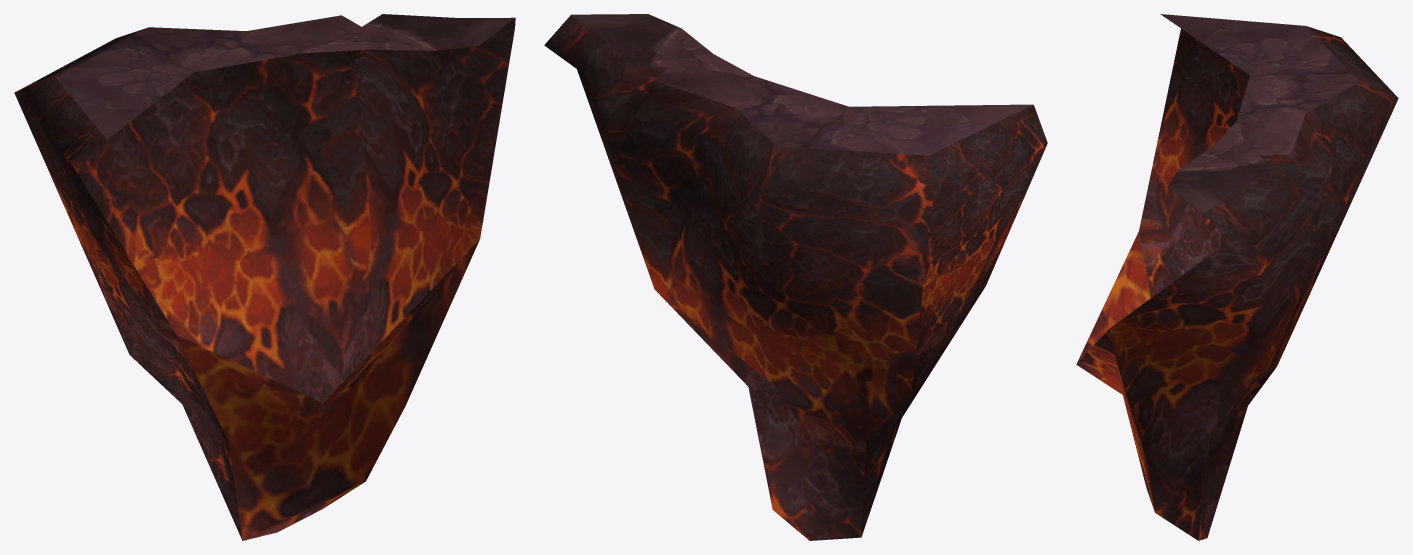
The model's file is hs_shan_30.FBX.
The picture shows the model from 3 angles, left to right: view 1: azimuth 30°, elevation 25°; view 2: azimuth 150°, elevation 25°; view 3: azimuth 270°, elevation 25°; orthographic projection. The views are drawn at different scales.
Parts seen in each view (by area): view 1: hs_shan_30; view 2: hs_shan_30; view 3: hs_shan_30.
Boxes of the visible parts, <box> form: hs_shan_30: <box>14,14,515,540</box>; hs_shan_30: <box>544,14,1047,540</box>; hs_shan_30: <box>1076,14,1398,540</box>.
Bounding box in the file's own units: 1335 × 1244 × 838.
